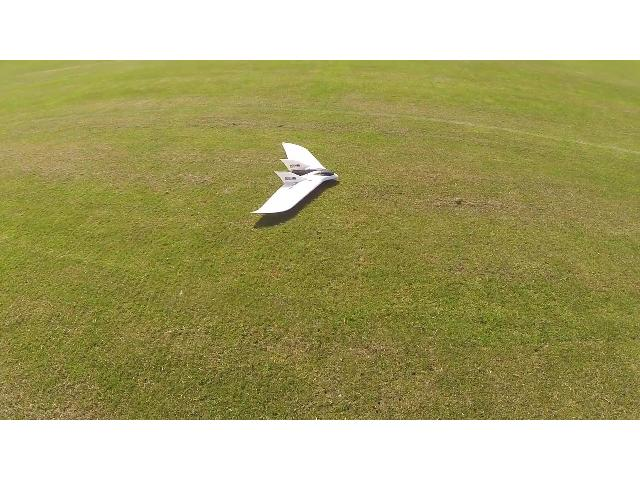Anti-Drone: (256, 136, 358, 244)
